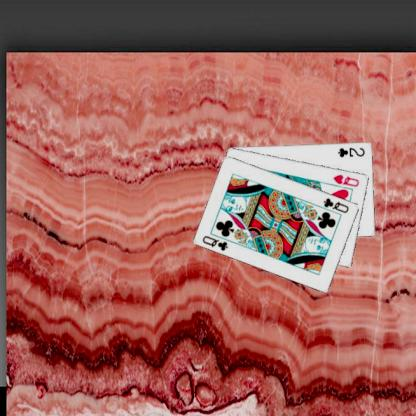2C: (336, 144, 366, 158)
QC: (200, 232, 230, 252), (320, 195, 350, 214)
QH: (330, 172, 360, 188)
